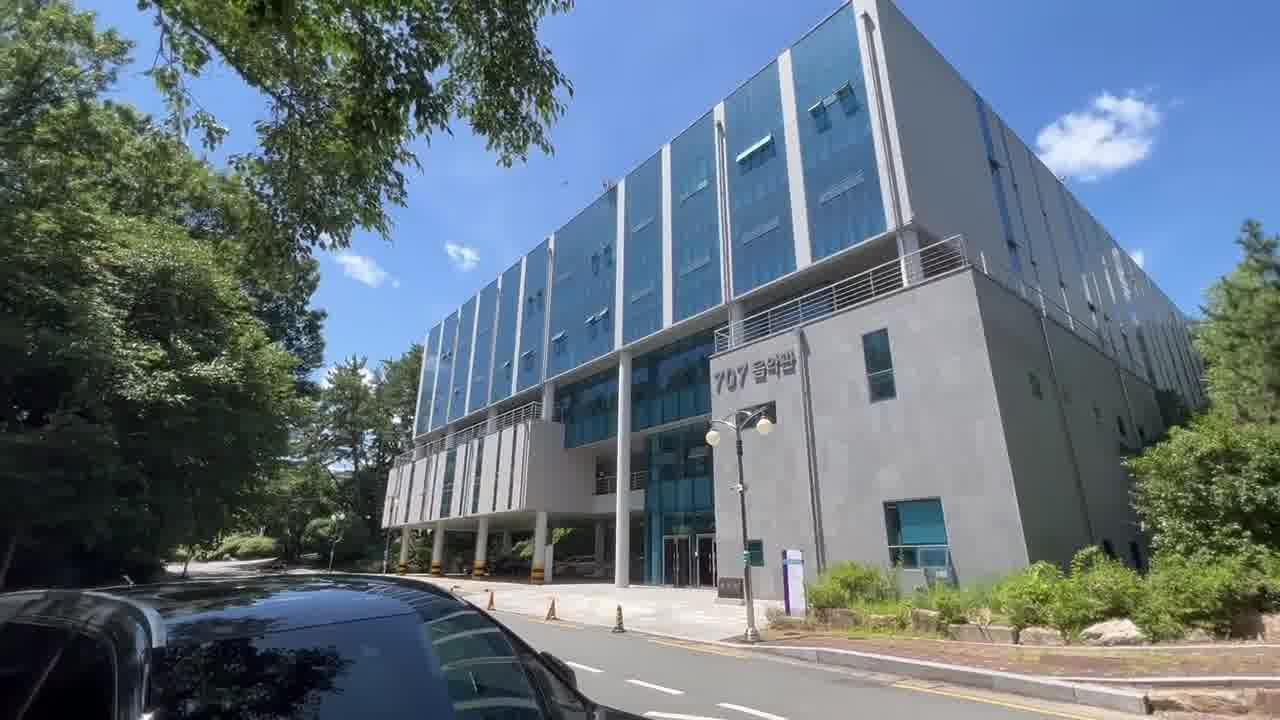building: (408, 99, 1143, 537)
